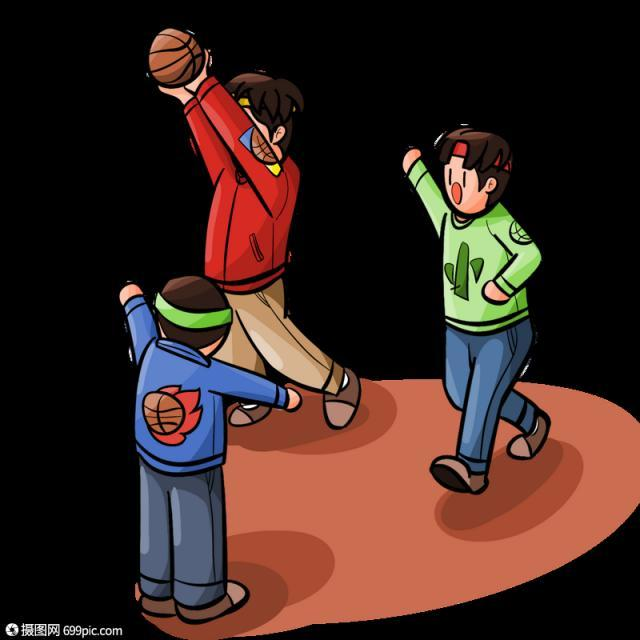rim: (147, 24, 204, 90)
